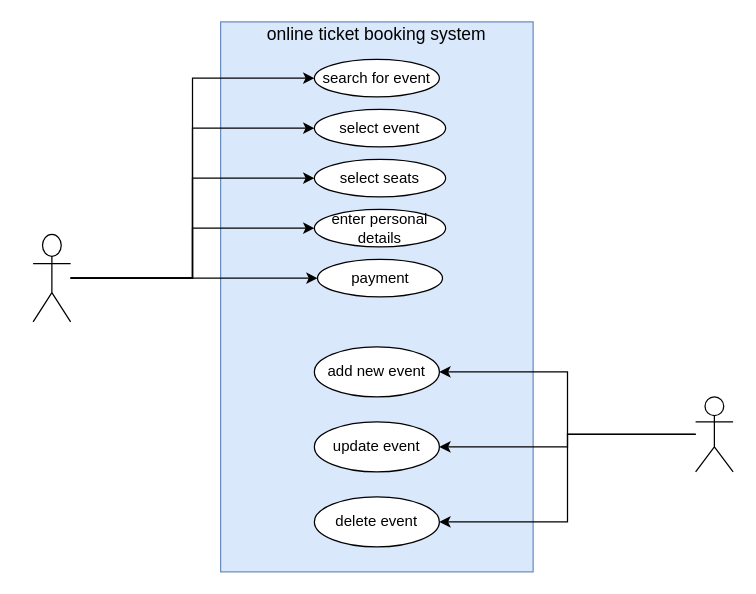
This 756x594 diagram has some shape labels left out. The shapes that lost their labels are listed below. From the top down, each one's box as (x1, y1, x2, y2) in pixels, then its label:
(32, 233, 71, 322): customer
(694, 396, 733, 472): admin
